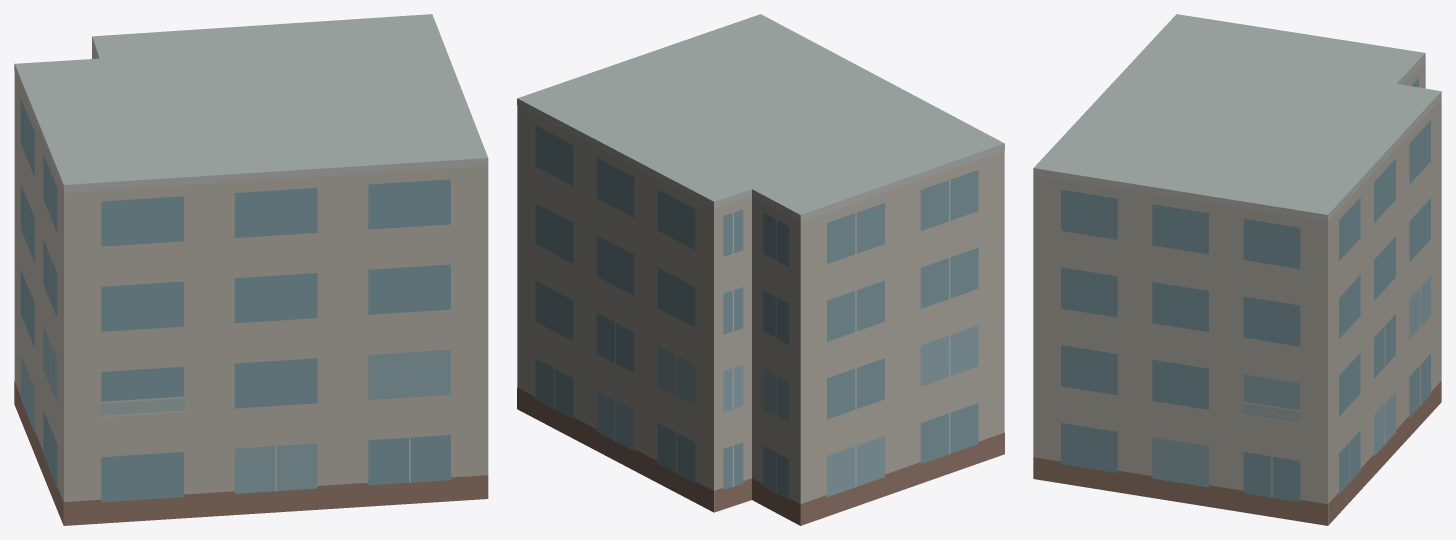
The model's file is survey-upis-33018947.glb.
The picture shows the model from 3 angles, left to right: view 1: azimuth 30°, elevation 25°; view 2: azimuth 150°, elevation 25°; view 3: azimuth 270°, elevation 25°; orthographic projection. The views are drawn at different scales.
Parts seen in each view (by area): view 1: survey-upis-33018947.tmp; view 2: survey-upis-33018947.tmp; view 3: survey-upis-33018947.tmp.
Boxes of the visible parts, <box> form: survey-upis-33018947.tmp: <box>14,14,488,525</box>; survey-upis-33018947.tmp: <box>517,14,1004,525</box>; survey-upis-33018947.tmp: <box>1033,14,1441,525</box>.
Size of the model in its own units: 15.18 by 10.94 by 13.03.
